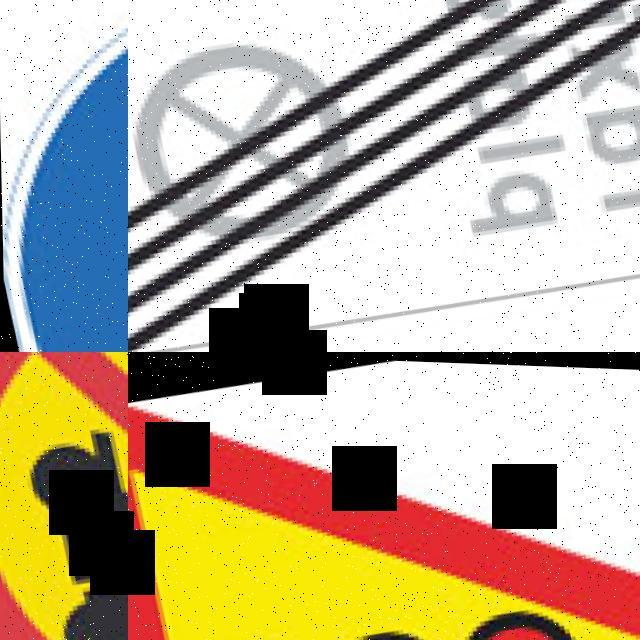115: (128, 0, 640, 352)
140: (128, 352, 640, 640)
93: (0, 0, 128, 352)
No entry for motor vehicles: (0, 352, 128, 640)
